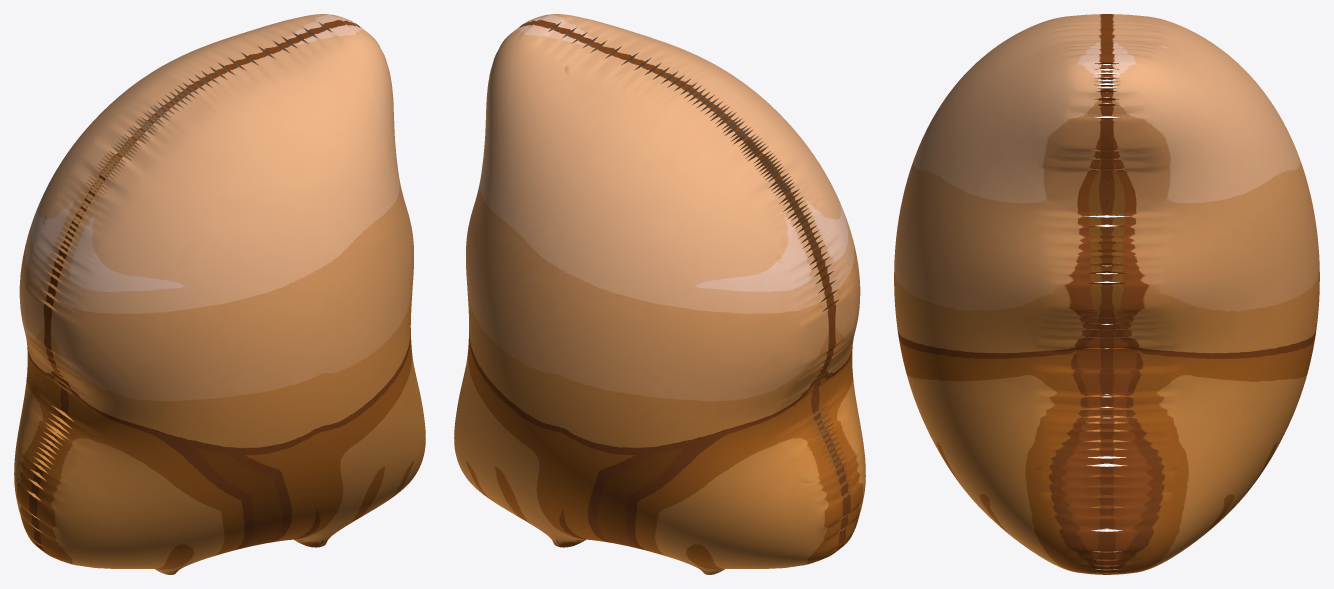
Rendered from mesa_shoulder.glb.
3 views of the same model, side by side, from view 1: azimuth 30°, elevation 25°; view 2: azimuth 150°, elevation 25°; view 3: azimuth 270°, elevation 25° (orthographic). The views are drawn at different scales.
Visible parts, largest first — view 1: mesa_shoulder; view 2: mesa_shoulder; view 3: mesa_shoulder.
Part boxes in pixels (left/top/right/bottom): mesa_shoulder: left=14, top=14, right=425, bottom=574; mesa_shoulder: left=454, top=14, right=865, bottom=574; mesa_shoulder: left=894, top=14, right=1319, bottom=574.
Size of the model in its own units: 0.9865 by 1.2 by 0.9118.
Materials: 1 (1 with a texture image).
